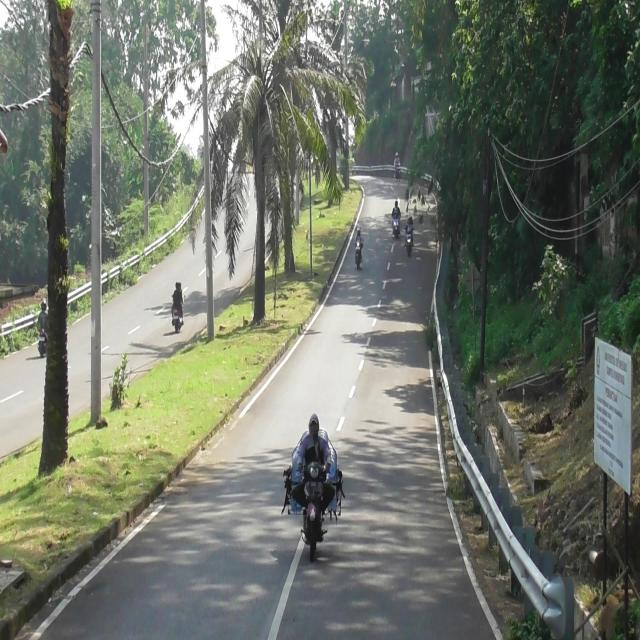motorcycle: (302, 461, 324, 564), (37, 328, 49, 356), (173, 307, 183, 336), (354, 241, 363, 269), (392, 214, 401, 238), (405, 230, 413, 255), (394, 164, 402, 180)
person: (295, 412, 333, 483), (38, 300, 49, 330), (173, 282, 182, 317), (354, 228, 362, 246), (392, 201, 401, 217), (406, 218, 413, 234), (394, 153, 400, 166), (179, 280, 182, 290), (410, 215, 413, 224)
rider_region: (294, 406, 330, 564), (38, 296, 51, 354), (171, 278, 184, 334), (354, 225, 364, 272), (392, 200, 401, 239), (406, 215, 414, 256), (394, 152, 401, 182)
